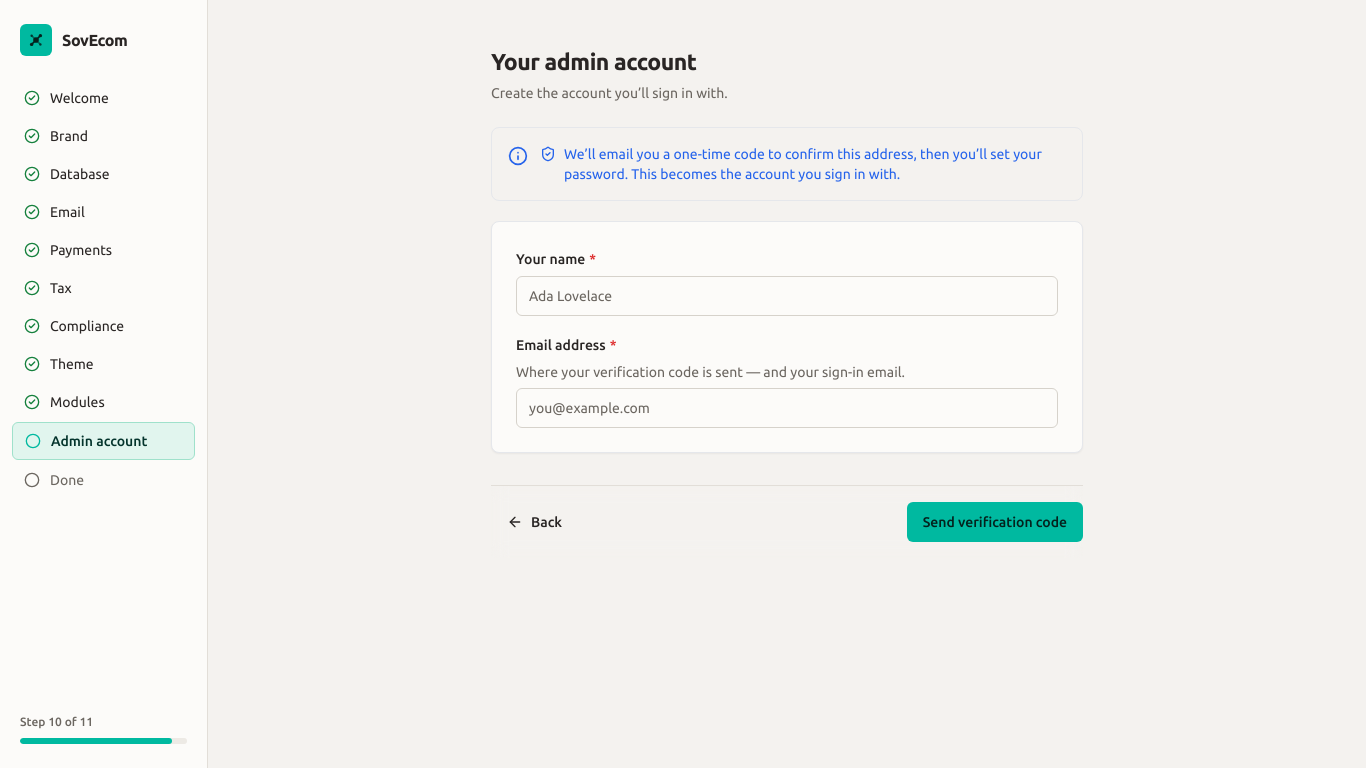
Test case: AdminAccountStep — request the code › blocks the request with inline errors when fields are empty
Expected: the heading "Your admin account" is shown, left=491, top=49, right=697, bottom=74
Step 1. Click the button "Send verification code" → (995, 522), box left=907, top=502, right=1083, bottom=542
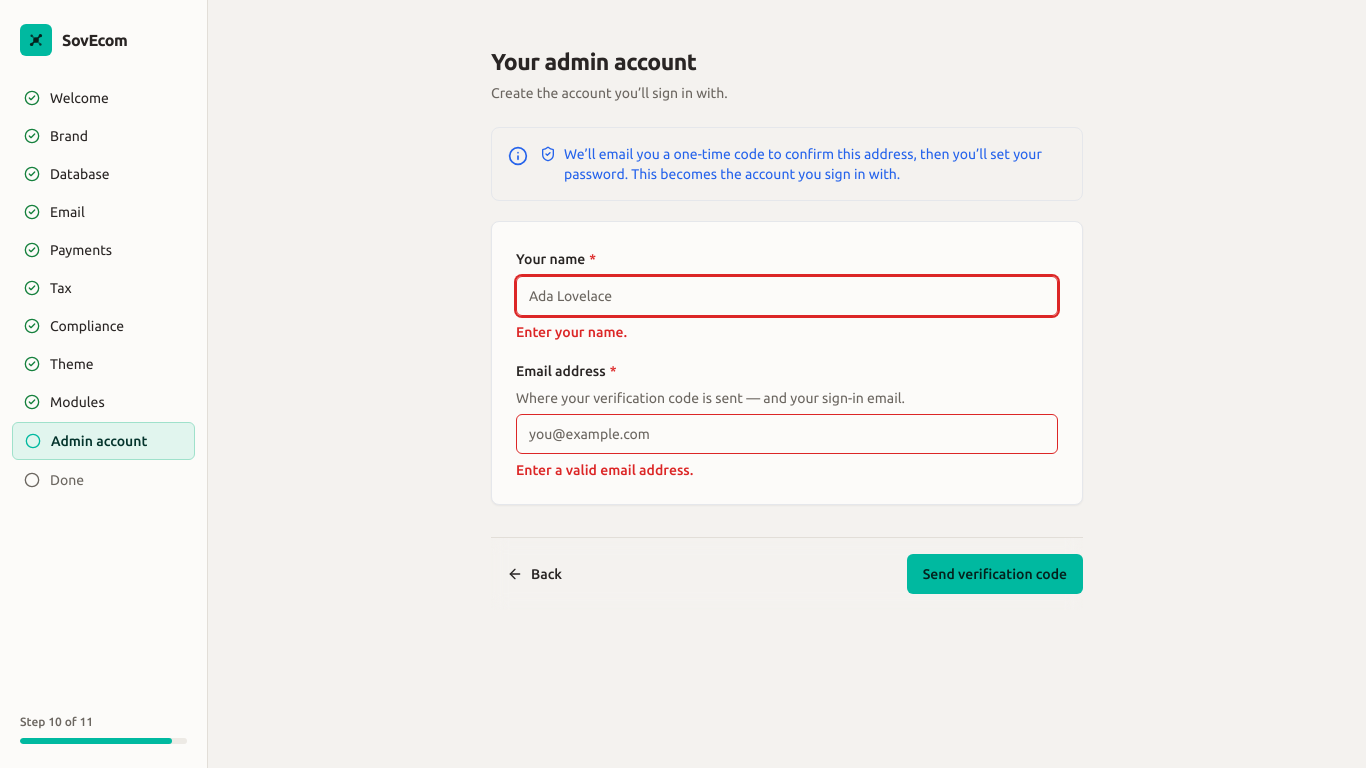
Now the text "Enter your name." is shown, box left=516, top=324, right=627, bottom=340
Now the text "Enter a valid email address." is shown, box left=516, top=462, right=693, bottom=478
